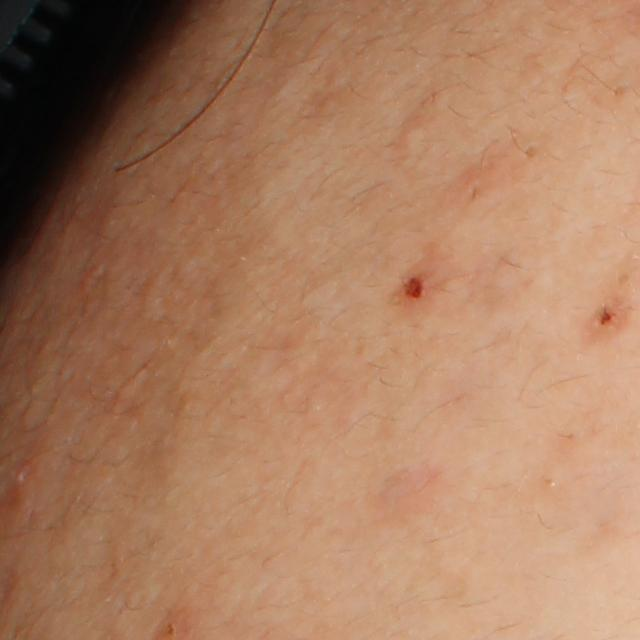comedo: (517, 133, 549, 164), (396, 120, 425, 150)
papule: (401, 273, 434, 303)
